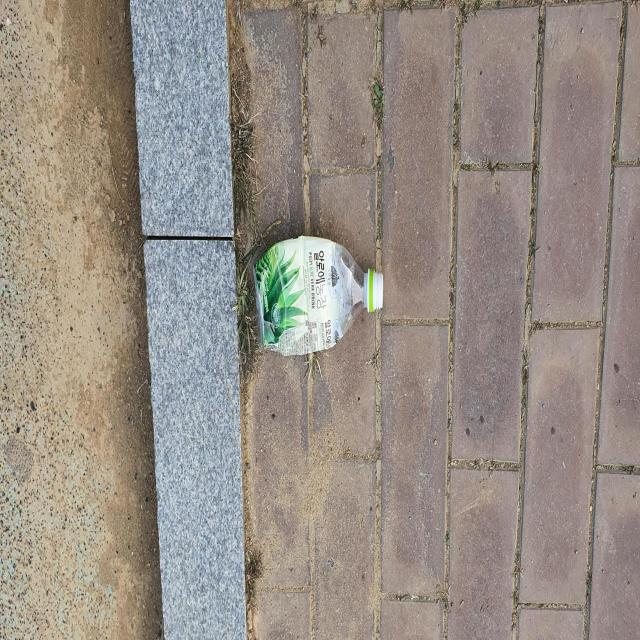plastic: (253, 235, 383, 355)
